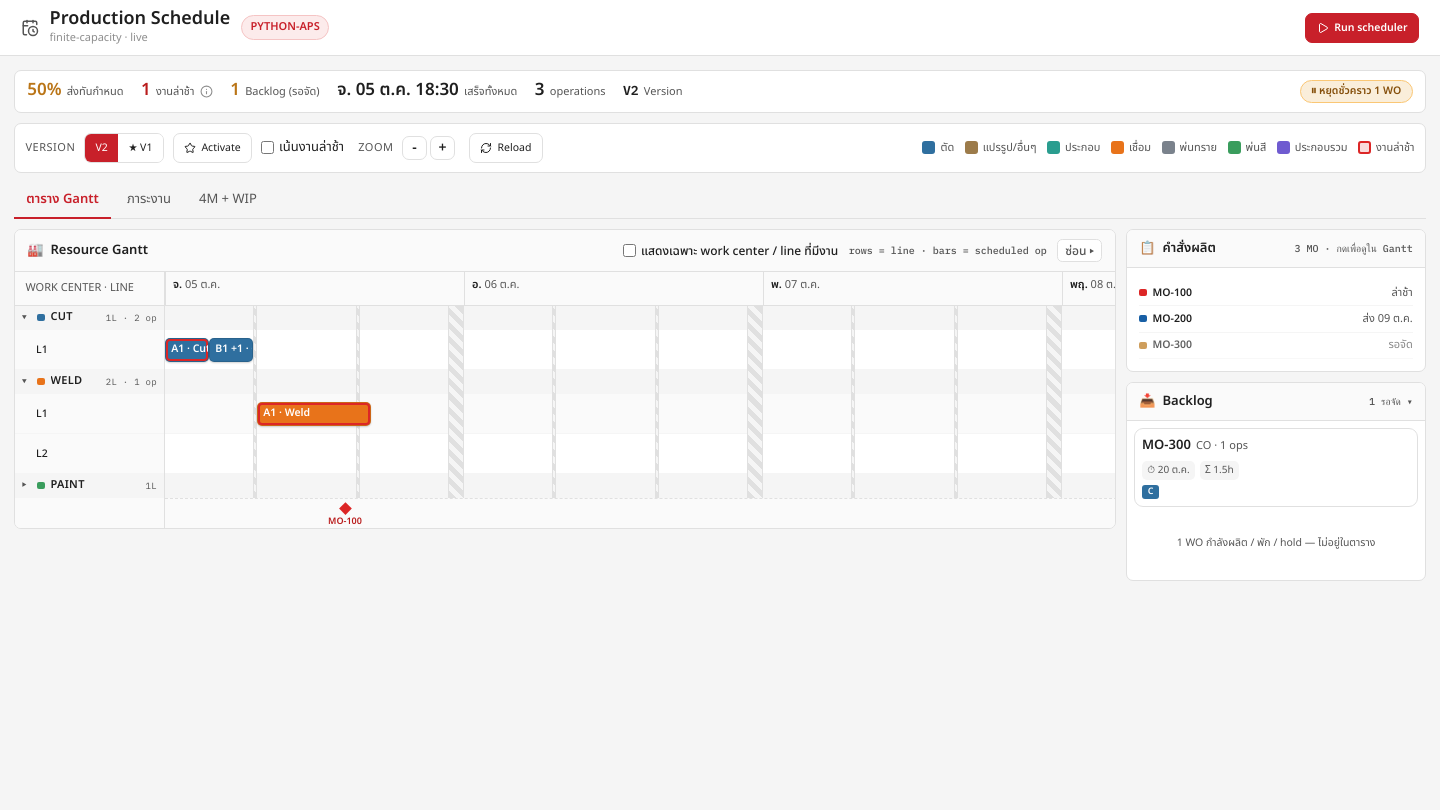
Test: ProductionSchedule › warns about paused WOs with the reason typed at Pause
Expected: the text "⏸ หยุดชั่วคราว 1 WO — ไม่ได้กันไลน์ไว้ ไลน์อาจไม่ว่าง" is not shown
Click the button "⏸ หยุดชั่วคราว 1 WO" at (1356, 91), box [1300, 80, 1413, 103]
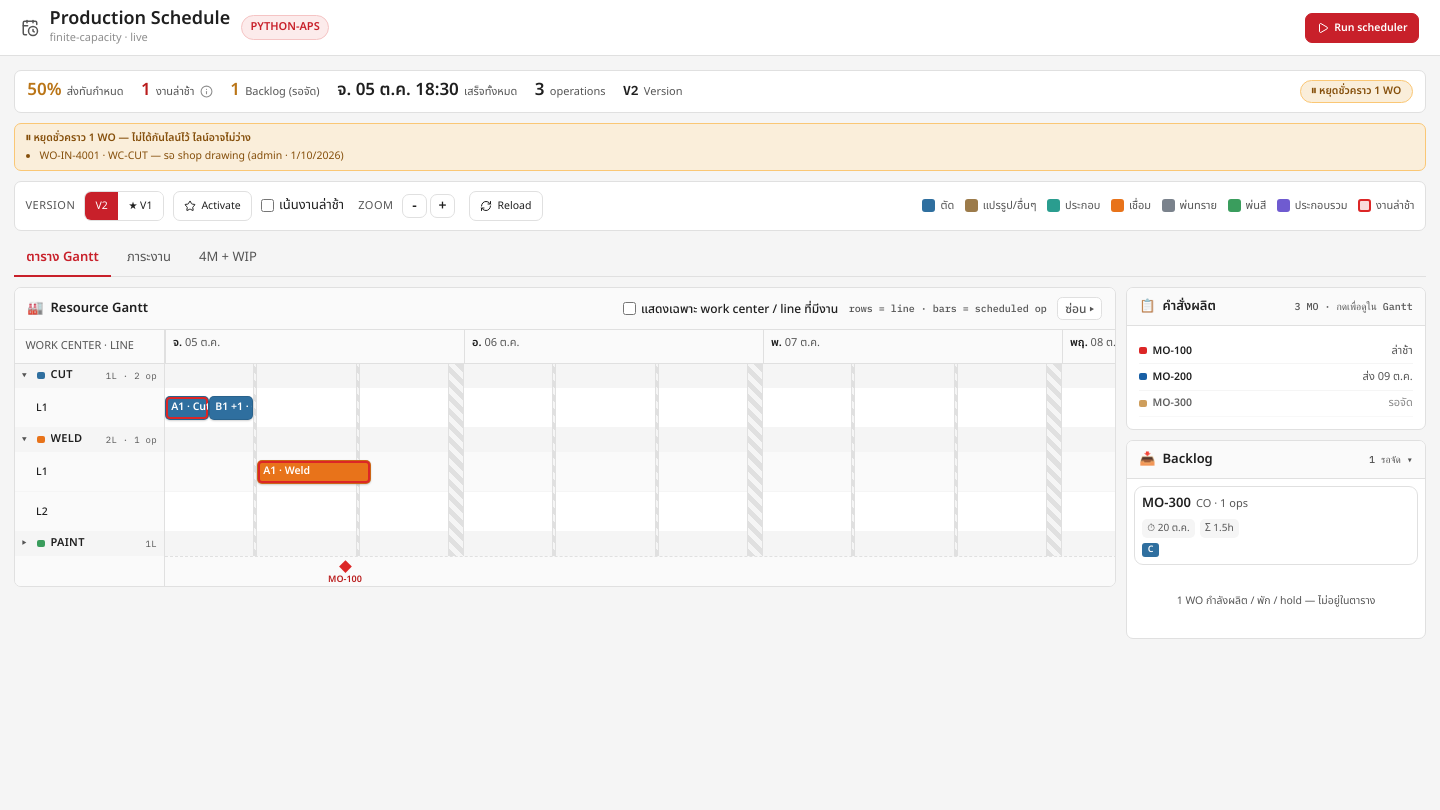
Expected: the text "⏸ หยุดชั่วคราว 1 WO — ไม่ได้กันไลน์ไว้ ไลน์อาจไม่ว่าง" is shown, [26, 130, 251, 146]
Expected: the list item "WO-IN-4001 · WC-CUT — รอ shop drawing (admin · 1/10/2026)" is shown, [40, 148, 344, 164]
